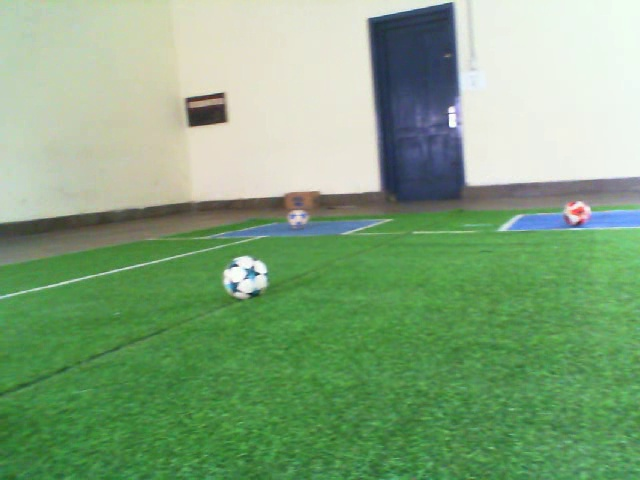ball: (221, 252, 269, 302), (561, 199, 593, 227), (287, 208, 311, 231)
